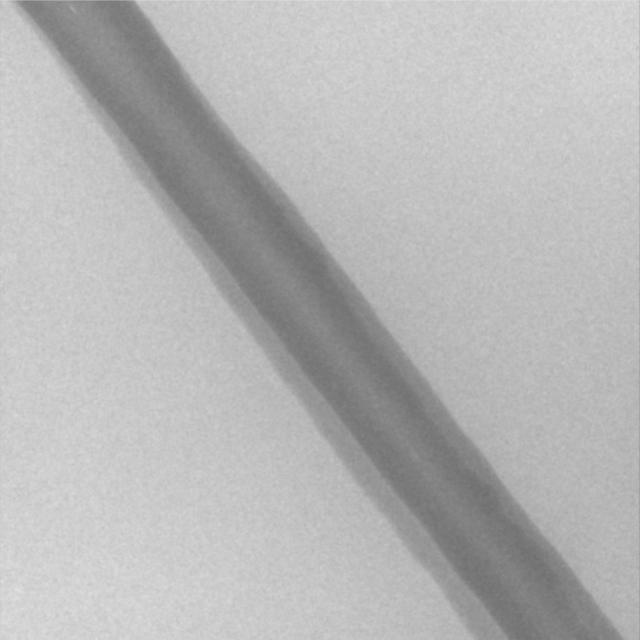air hole: (409, 451, 420, 464), (66, 4, 76, 16)
